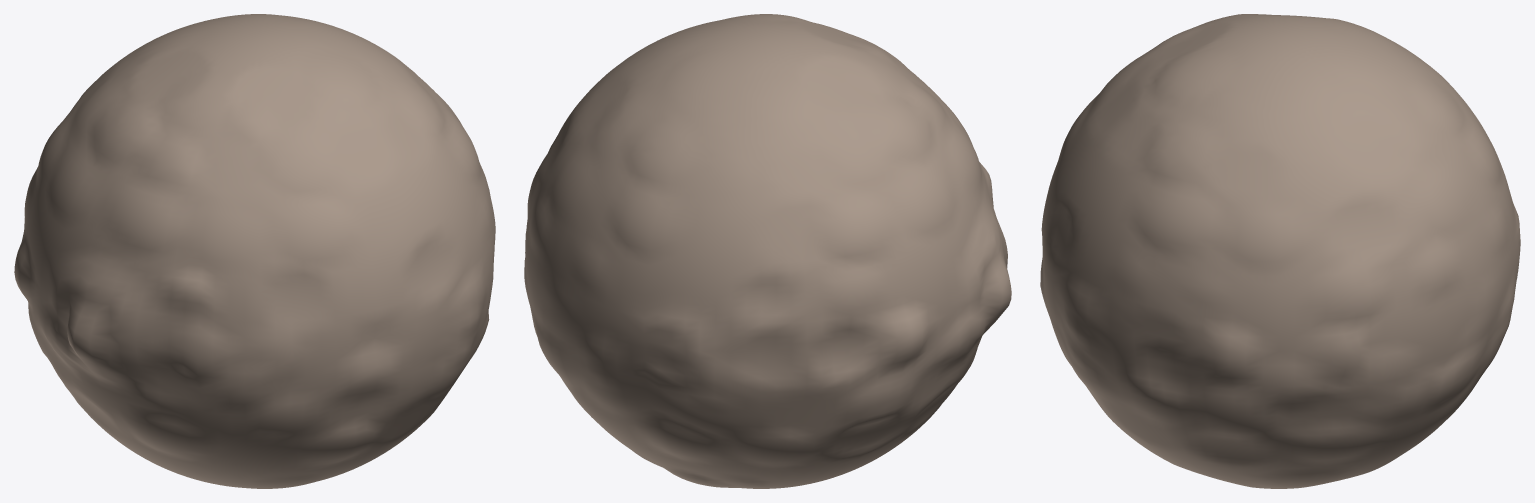
File: 1999 RQ36 asteroid.obj
3 views of the same model, side by side, from view 1: azimuth 30°, elevation 25°; view 2: azimuth 150°, elevation 25°; view 3: azimuth 270°, elevation 25° (orthographic).
Parts seen in each view (by area): view 1: /Browser/InputFile/a5b37b0b-61f1-4b76-9c08-108e57760860?ext=lwo_; view 2: /Browser/InputFile/a5b37b0b-61f1-4b76-9c08-108e57760860?ext=lwo_; view 3: /Browser/InputFile/a5b37b0b-61f1-4b76-9c08-108e57760860?ext=lwo_.
Part boxes in pixels (bbox=[...]): /Browser/InputFile/a5b37b0b-61f1-4b76-9c08-108e57760860?ext=lwo_: bbox=[14, 14, 495, 488]; /Browser/InputFile/a5b37b0b-61f1-4b76-9c08-108e57760860?ext=lwo_: bbox=[524, 14, 1011, 488]; /Browser/InputFile/a5b37b0b-61f1-4b76-9c08-108e57760860?ext=lwo_: bbox=[1040, 14, 1520, 488].
Size of the model in its own units: 1351 by 1302 by 1310.
